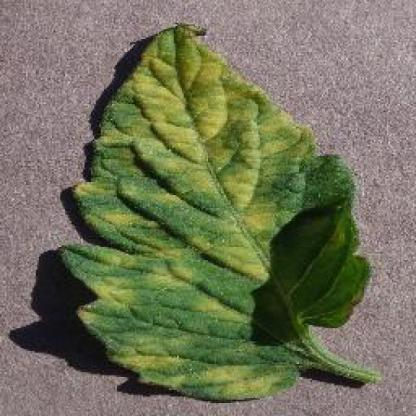Tomato_Leaf_Mold: (64, 25, 366, 399)
